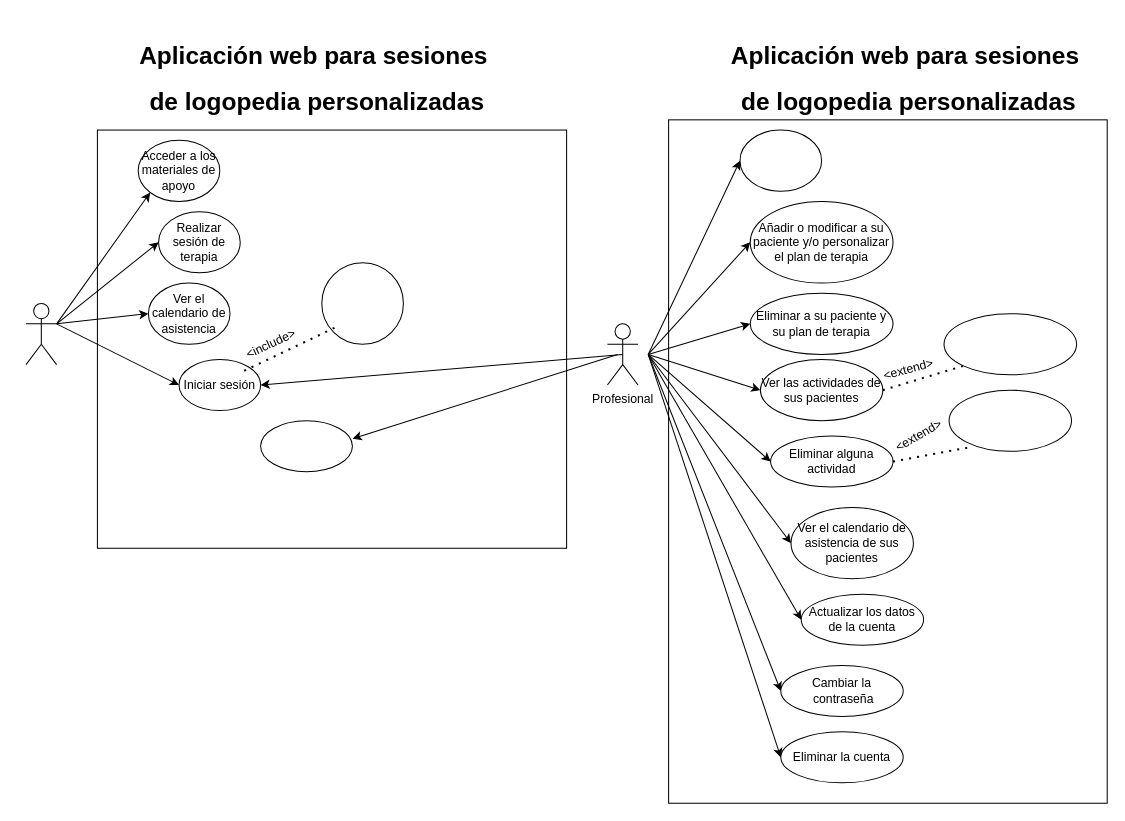
The diagram is 1125 pixels wide and 821 high, and some of its shapes have lost their labels. The shapes that lost their labels are listed below. From the top down, each one's centre as x and y in pixels, then its label:
At [780,160]: "Descargar informe en PDF".
At [362,303]: "Verificación de los credenciales".
At [41,333]: "Paciente".
At [1010,344]: "Buscar actividades de un paciente específico".
At [1010,420]: "Eliminar todas las actividades".
At [306,446]: "Crear una cuenta".
